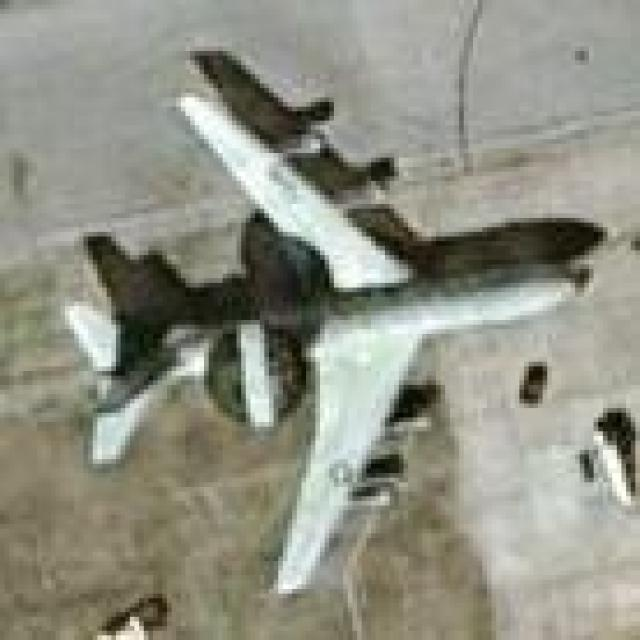E-3_TopDown: (55, 41, 608, 594)
